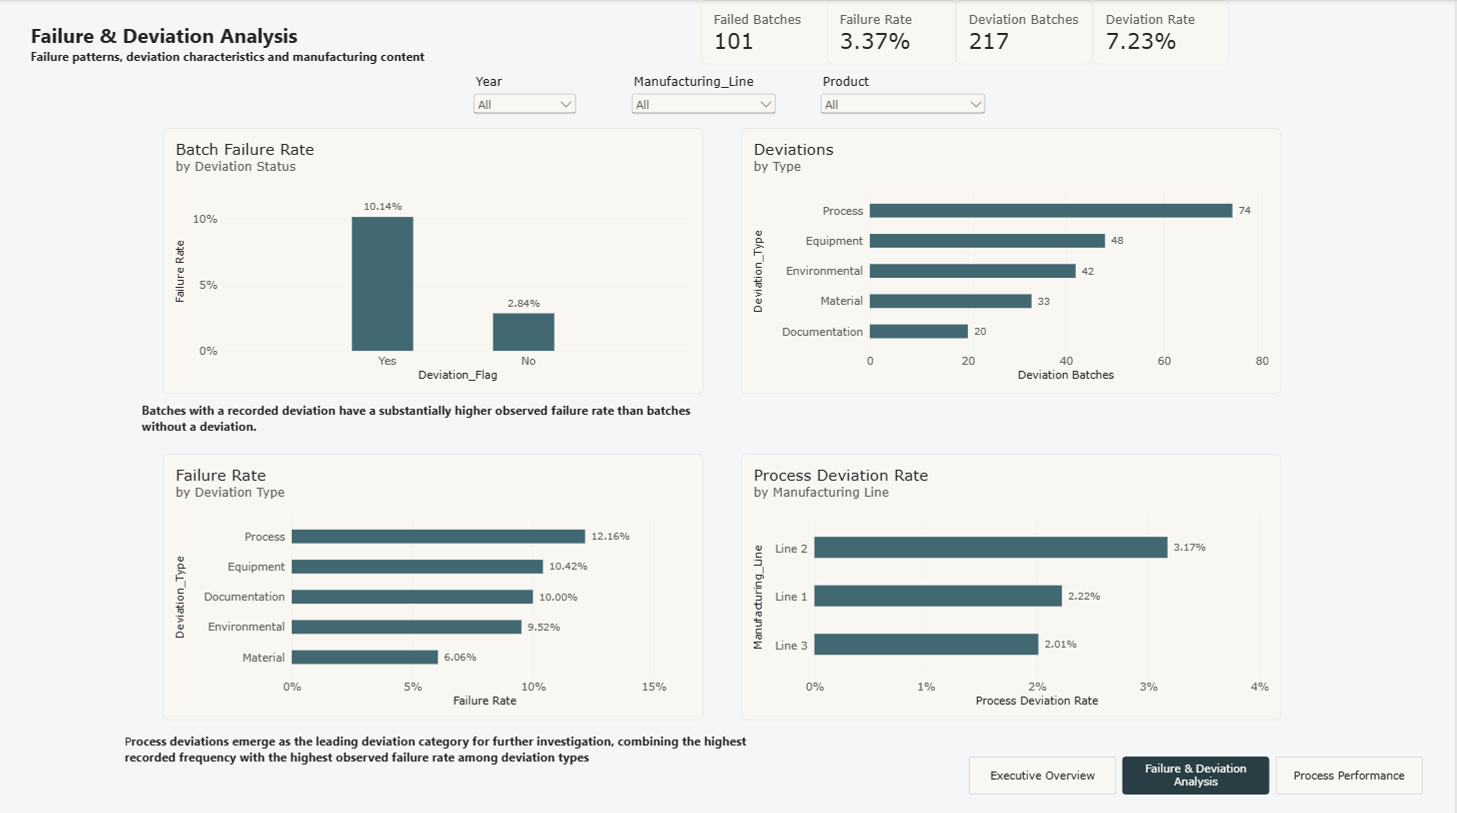

Layout of this report page (visuals, bound fields, positions):
{"tool":"powerbi","page":{"name":"Failure & Deviation Analysis","canvas":[1920,1080],"ordinal":1},"visuals":[{"type":"textbox","box":[44.6,27.6,669.7,80.8],"z":0},{"type":"cardVisual","fields":{"Data":["pharma_manufacturing_cleaned csv.Failed Batches"]},"box":[926.9,0,180.7,85],"z":1000},{"type":"cardVisual","fields":{"Data":["pharma_manufacturing_cleaned csv.Failure Rate"]},"box":[1092.8,0,170.1,85],"z":2000},{"type":"cardVisual","fields":{"Data":["pharma_manufacturing_cleaned csv.Deviation Batches"]},"box":[1262.8,0,180.7,85],"z":3000},{"type":"cardVisual","fields":{"Data":["pharma_manufacturing_cleaned csv.Deviation Rate"]},"box":[1443.5,0,180.7,85],"z":4000},{"type":"clusteredColumnChart","title":"Batch Failure Rate","fields":{"Category":["pharma_manufacturing_cleaned csv.Deviation_Flag"],"Y":["pharma_manufacturing_cleaned csv.Failure Rate"]},"box":[219,168,712.2,350.8],"z":5000},{"type":"textbox","box":[191.3,529.4,763.2,57.4],"z":6000},{"type":"clusteredBarChart","title":"Failure Rate","fields":{"Category":["pharma_manufacturing_cleaned csv.Deviation_Type"],"Y":["pharma_manufacturing_cleaned csv.Failure Rate"]},"box":[219,597.4,712.2,350.8],"z":7000},{"type":"clusteredBarChart","title":"Deviations","fields":{"Category":["pharma_manufacturing_cleaned csv.Deviation_Type"],"Y":["pharma_manufacturing_cleaned csv.Deviation Batches"]},"box":[980.1,168,712.2,350.8],"z":8000},{"type":"textbox","box":[168,965.2,835.5,57.4],"z":9000},{"type":"clusteredBarChart","title":"Process Deviation Rate","fields":{"Category":["pharma_manufacturing_cleaned csv.Manufacturing_Line"],"Y":["pharma_manufacturing_cleaned csv.Process Deviation Rate"]},"box":[980.1,597.4,712.2,350.8],"z":10000},{"type":"slicer","fields":{"Values":["Date.Year"]},"box":[622.9,97.8,144.6,68],"z":11000},{"type":"slicer","fields":{"Values":["pharma_manufacturing_cleaned csv.Manufacturing_Line"]},"box":[831.3,97.8,199.8,70.2],"z":12000},{"type":"slicer","fields":{"Values":["pharma_manufacturing_cleaned csv.Product"]},"box":[1080,97.8,227.5,70.2],"z":13000},{"type":"pageNavigator","box":[1279.8,997.1,600,50],"z":13001}]}

Visuals, with their boxes in screenshot pixels (x1, y1, x2, y2), scaled from the page's 1920x1080 canvas onto the 1457x813 screenshot:
textbox: x1=34, y1=21, x2=542, y2=82
cardVisual - pharma_manufacturing_cleaned csv.Failed Batches: x1=703, y1=0, x2=841, y2=64
cardVisual - pharma_manufacturing_cleaned csv.Failure Rate: x1=829, y1=0, x2=958, y2=64
cardVisual - pharma_manufacturing_cleaned csv.Deviation Batches: x1=958, y1=0, x2=1095, y2=64
cardVisual - pharma_manufacturing_cleaned csv.Deviation Rate: x1=1095, y1=0, x2=1233, y2=64
"Batch Failure Rate" clusteredColumnChart: x1=166, y1=126, x2=707, y2=391
textbox: x1=145, y1=399, x2=724, y2=442
"Failure Rate" clusteredBarChart: x1=166, y1=450, x2=707, y2=714
"Deviations" clusteredBarChart: x1=744, y1=126, x2=1284, y2=391
textbox: x1=127, y1=727, x2=762, y2=770
"Process Deviation Rate" clusteredBarChart: x1=744, y1=450, x2=1284, y2=714
slicer - Date.Year: x1=473, y1=74, x2=582, y2=125
slicer - pharma_manufacturing_cleaned csv.Manufacturing_Line: x1=631, y1=74, x2=782, y2=126
slicer - pharma_manufacturing_cleaned csv.Product: x1=820, y1=74, x2=992, y2=126
pageNavigator: x1=971, y1=751, x2=1426, y2=788
